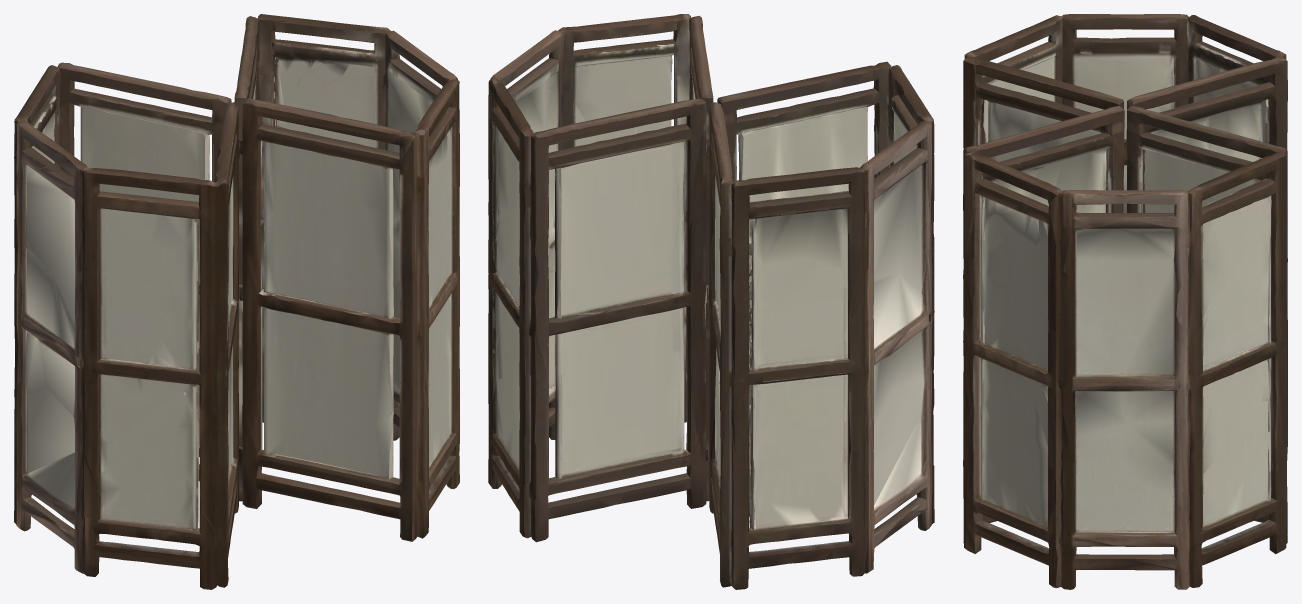
File: aholo-20261119-folding-screen-partition.glb
The picture shows the model from 3 angles, left to right: view 1: azimuth 30°, elevation 25°; view 2: azimuth 150°, elevation 25°; view 3: azimuth 270°, elevation 25°; orthographic projection. The views are drawn at different scales.
Parts seen in each view (by area): view 1: geometry_0; view 2: geometry_0; view 3: geometry_0.
Boxes of the visible parts, box(x1,y1,x2,y2) form: geometry_0: box(14, 14, 459, 589); geometry_0: box(488, 14, 934, 589); geometry_0: box(963, 14, 1287, 589).
Size of the model in its own units: 2 by 2.06 by 1.52.
Materials: 1 (1 with a texture image).
